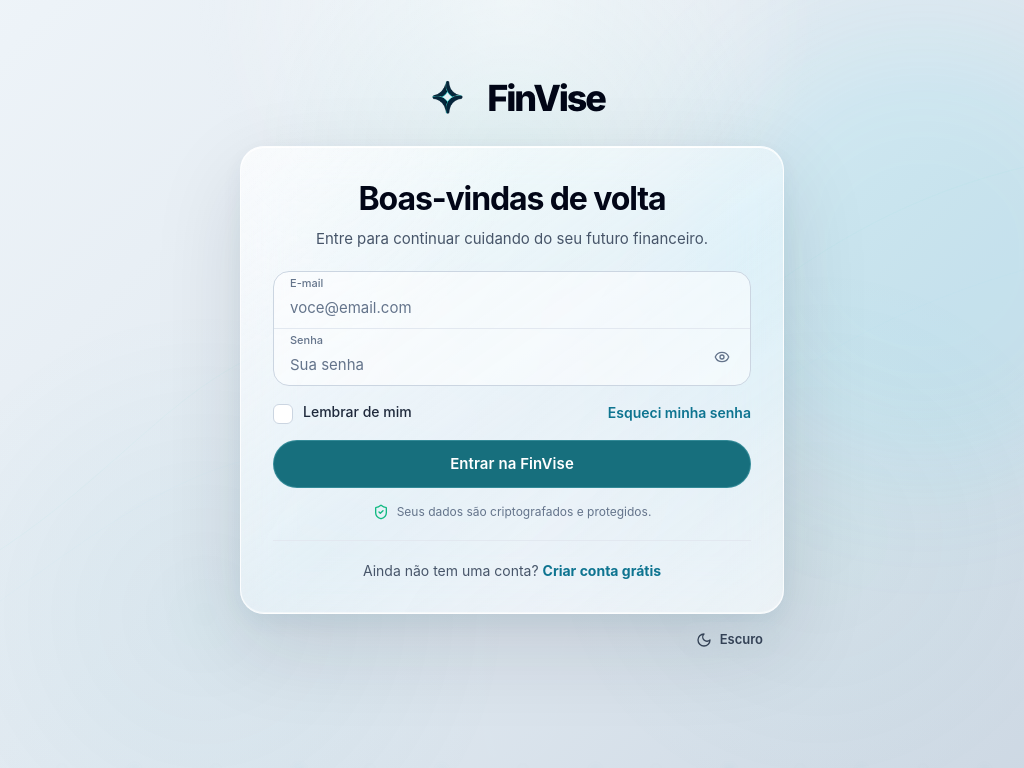
Test case: LoginPage › shows rejected credentials below the grouped fields without reloading
Type "usuario@exemplo.com" into the field labelled "E-mail" at [512, 300], box x1=274 y1=272 x2=750 y2=328
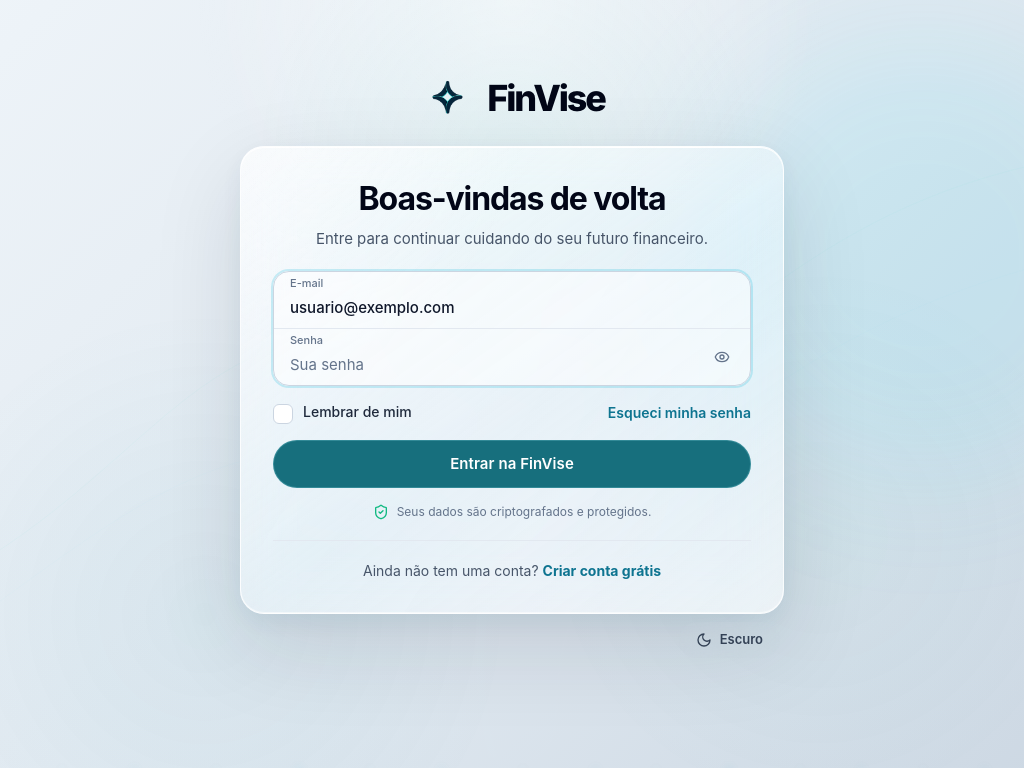
Type "senha-incorreta" into the password field labelled "Senha" at [512, 357], box x1=274 y1=329 x2=750 y2=385
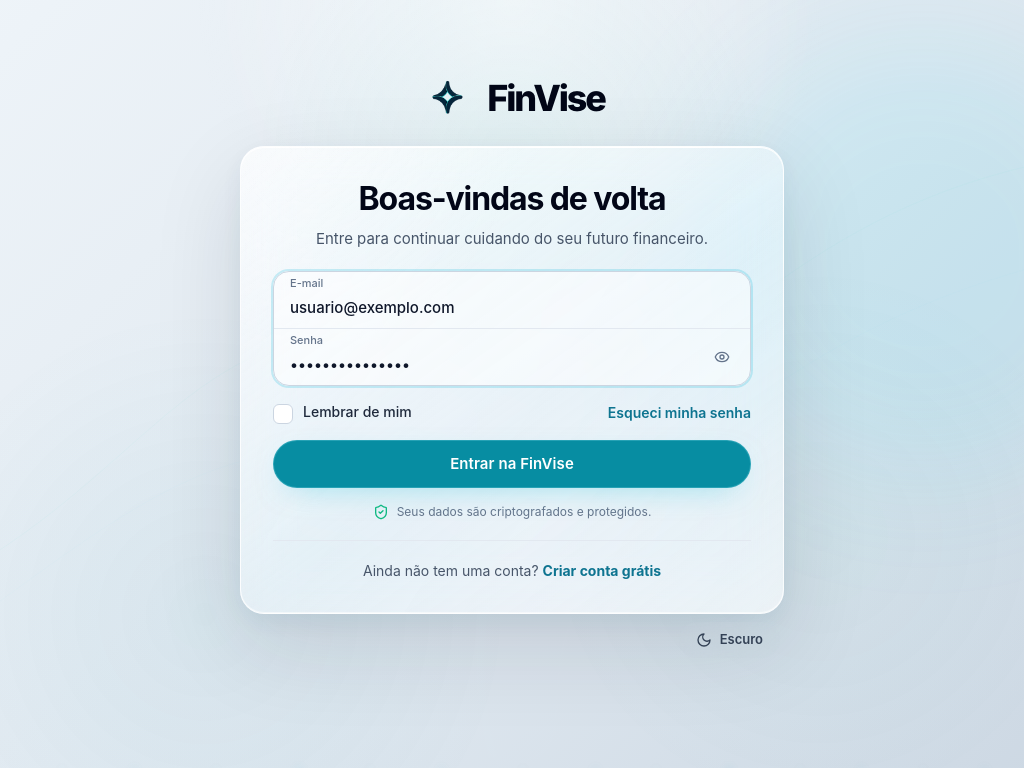
Click the button "Entrar na FinVise" at [512, 464], box x1=273 y1=440 x2=751 y2=488
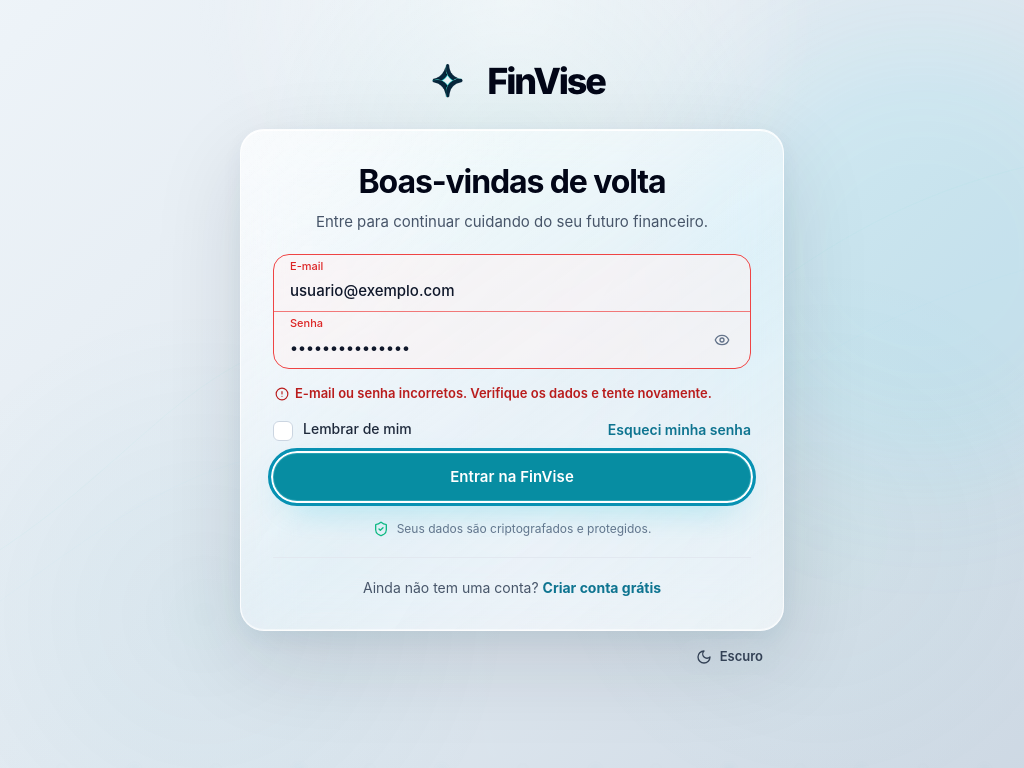
Result: the message reads "E-mail ou senha incorretos. Verifique os dados e tente novamente." at x1=295 y1=385 x2=712 y2=401
